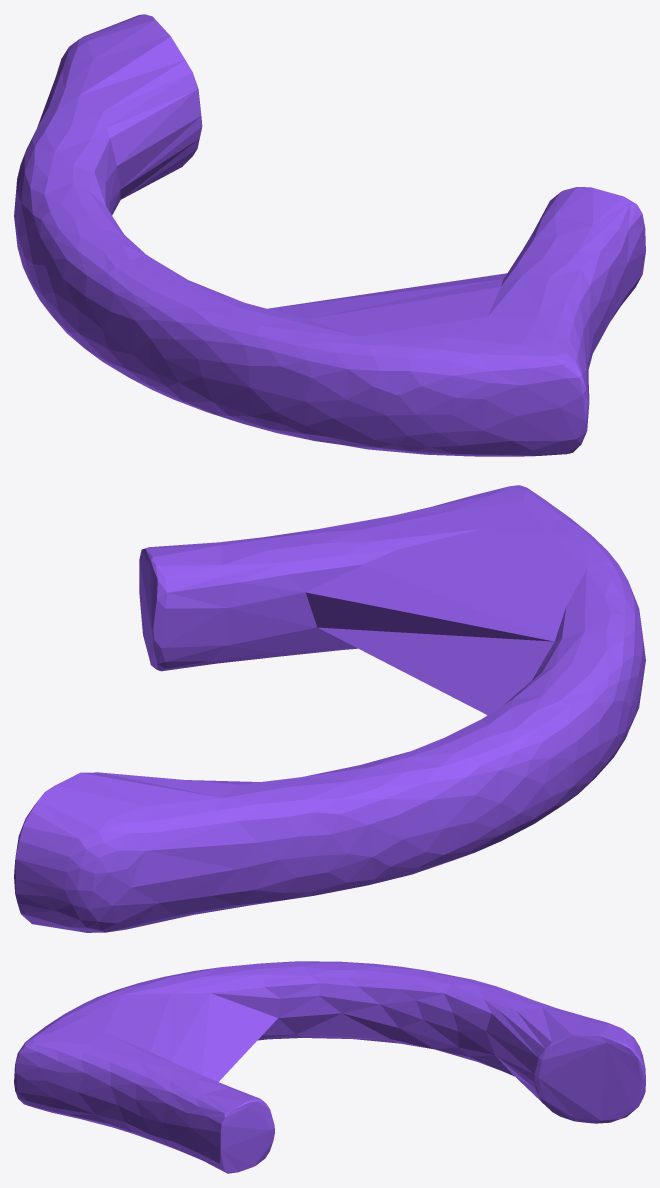
File: part_3_Handle_wrapped.obj
The picture shows the model from 3 angles, top to bottom: view 1: azimuth 30°, elevation 25°; view 2: azimuth 150°, elevation 25°; view 3: azimuth 270°, elevation 25°; orthographic projection. The views are drawn at different scales.
Visible parts, largest first — view 1: part_3_Handle_wrapped; view 2: part_3_Handle_wrapped; view 3: part_3_Handle_wrapped.
Boxes of the visible parts, bbox=[...] form: part_3_Handle_wrapped: bbox=[14, 14, 645, 456]; part_3_Handle_wrapped: bbox=[14, 485, 645, 932]; part_3_Handle_wrapped: bbox=[14, 961, 645, 1173].
Size of the model in its own units: 0.3625 by 0.0924 by 0.6032.
